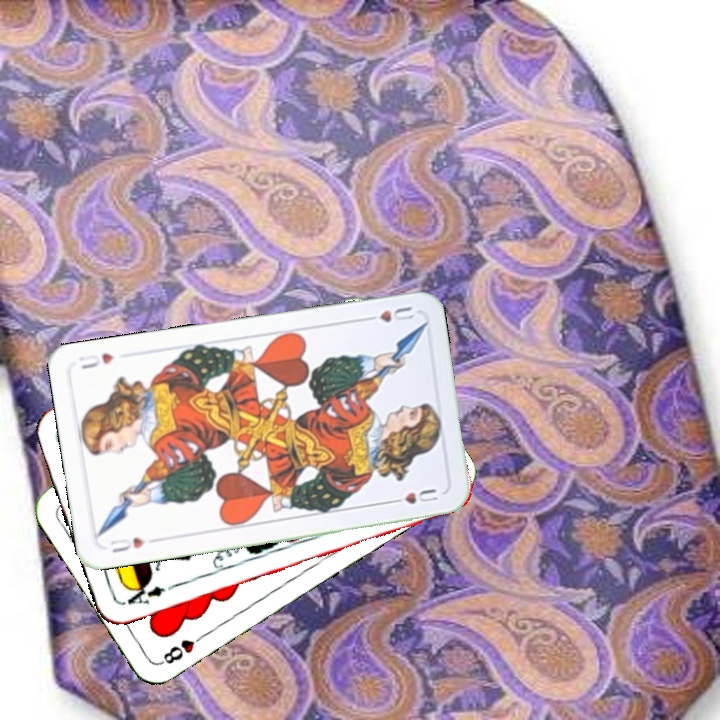EA: (118, 578, 168, 608)
H8: (156, 629, 209, 668)
HU: (359, 302, 417, 326), (106, 533, 148, 556)
